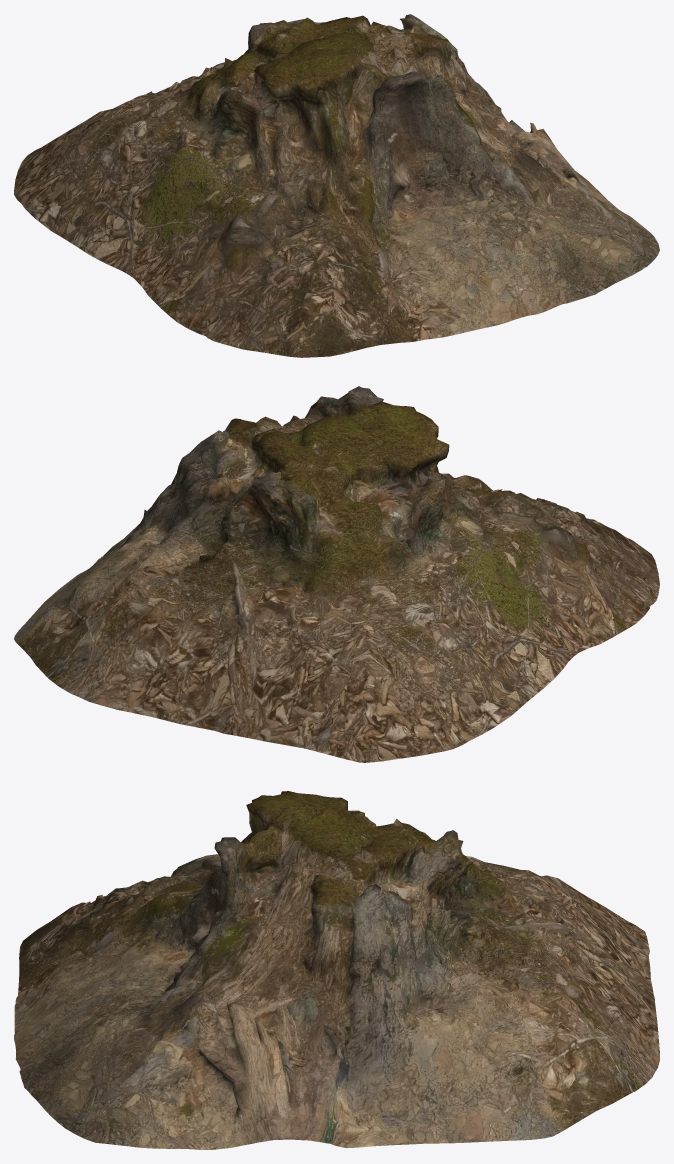
The model's file is tree_stump_01.glb.
3 renders of one model, top to bottom at view 1: azimuth 30°, elevation 25°; view 2: azimuth 150°, elevation 25°; view 3: azimuth 270°, elevation 25°, orthographic. The views are drawn at different scales.
Parts seen in each view (by area): view 1: tree_stump_01_lod0; view 2: tree_stump_01_lod0; view 3: tree_stump_01_lod0.
Part boxes in pixels (left/top/right/bottom): tree_stump_01_lod0: left=14, top=14, right=659, bottom=357; tree_stump_01_lod0: left=14, top=386, right=659, bottom=762; tree_stump_01_lod0: left=14, top=791, right=659, bottom=1149.
Size of what is drawn, in the model's own units: 1.42 by 0.5731 by 1.59.
Materials: 1 (1 with a texture image).
